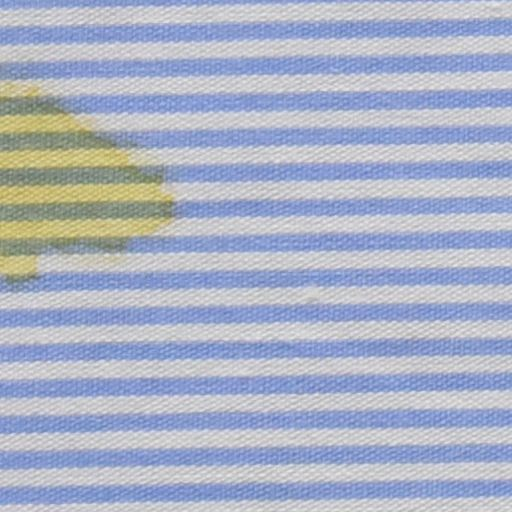defect: (1, 98, 167, 285)
